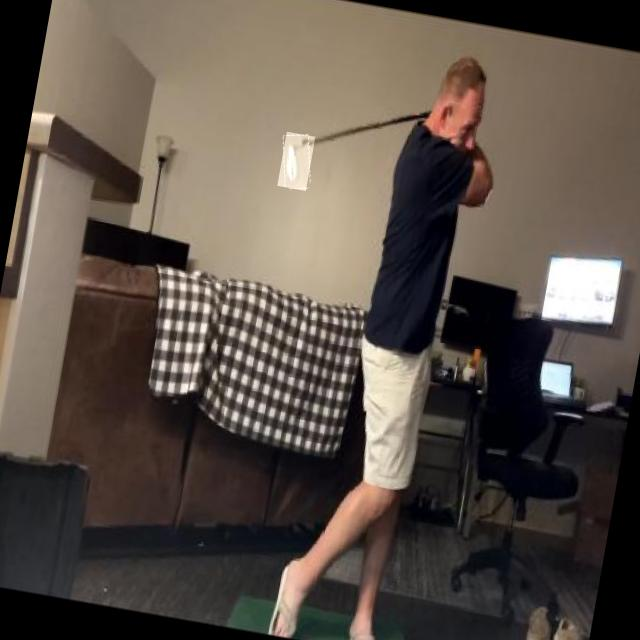club head: (277, 132, 315, 190)
